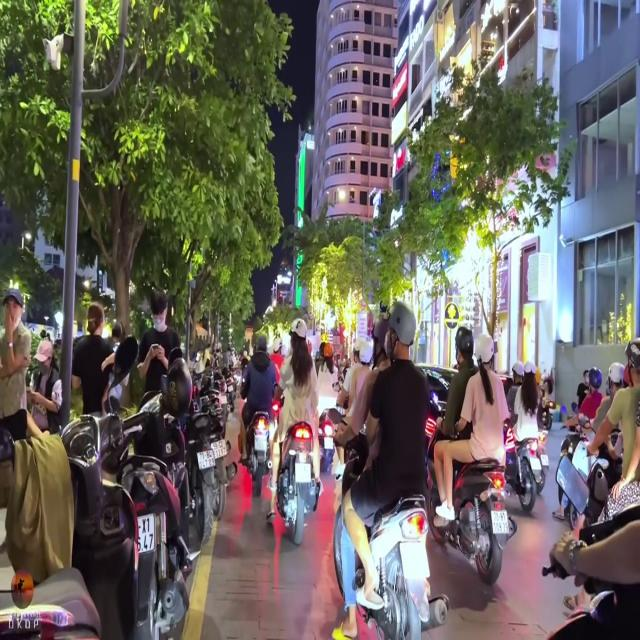bien_trang: (132, 509, 155, 553)
